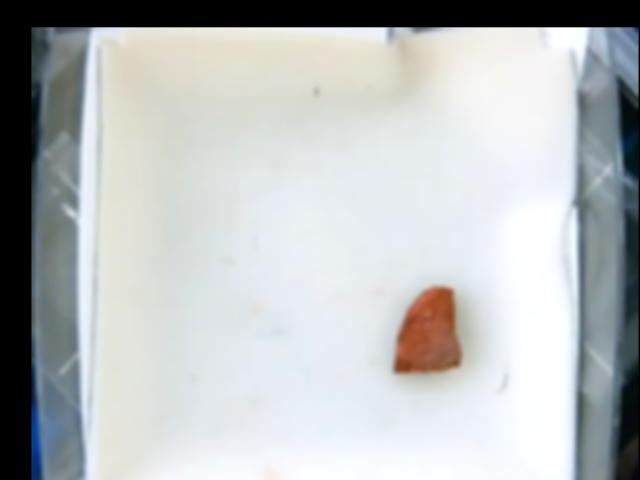Brisk: (395, 285, 461, 377)
